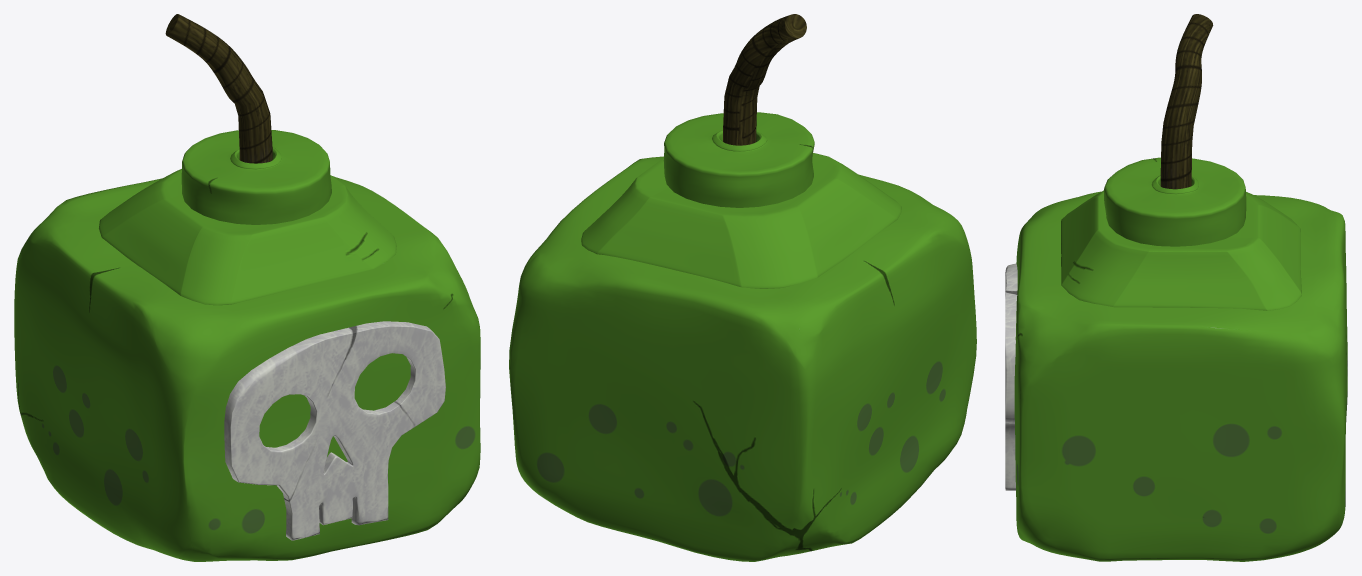
Rendered from poison_bomb_2019.glb.
3 renders of one model, left to right at view 1: azimuth 30°, elevation 25°; view 2: azimuth 150°, elevation 25°; view 3: azimuth 270°, elevation 25°, orthographic. The views are drawn at different scales.
Parts seen in each view (by area): view 1: rock, skull, top01, top02, wick; view 2: rock, top01, top02, wick; view 3: rock, top01, top02, wick, skull.
Boxes of the visible parts, x1,y1,x2,y2 form: rock: (14, 176, 480, 561); skull: (224, 321, 445, 540); top01: (99, 169, 396, 305); top02: (181, 130, 331, 224); wick: (165, 14, 272, 163); rock: (509, 156, 976, 561); top01: (581, 153, 901, 288); top02: (663, 112, 814, 207); wick: (723, 14, 806, 145); rock: (1014, 191, 1347, 561); top01: (1061, 190, 1301, 310); top02: (1104, 157, 1246, 246); wick: (1160, 14, 1213, 189); skull: (1005, 263, 1017, 490).
Size of the model in its own units: 45.54 by 68.28 by 46.37.
Materials: 1 (1 with a texture image).
